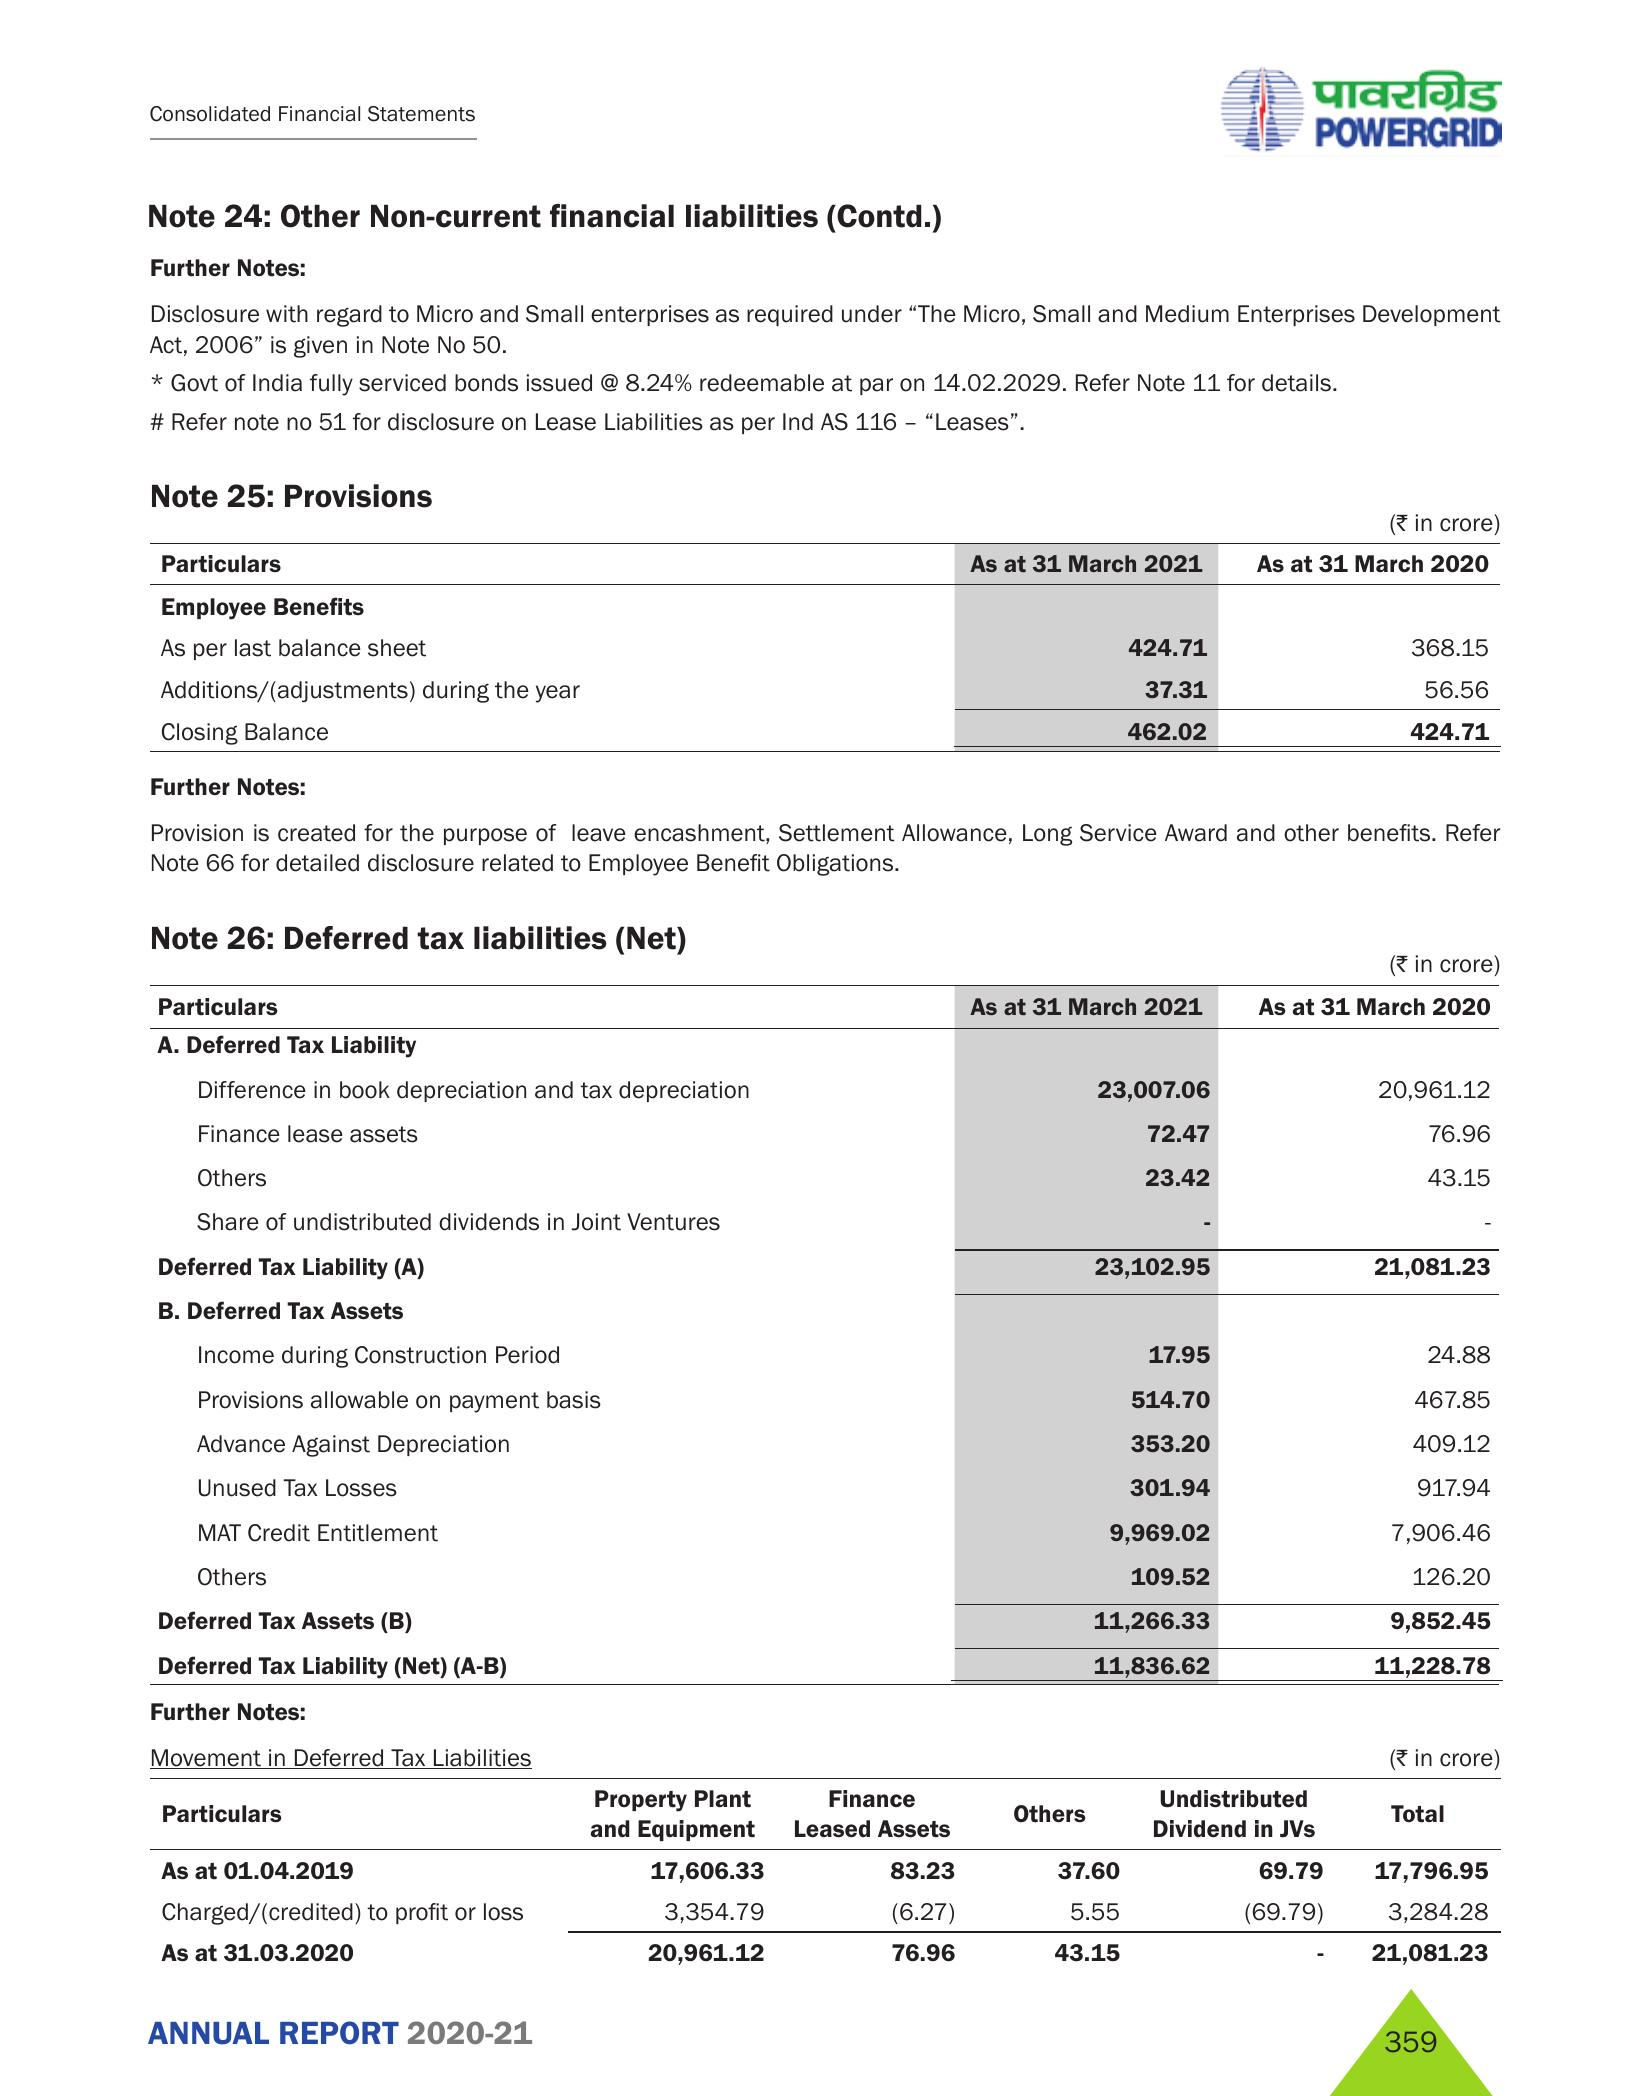Footer: (0, 1974, 1650, 2096)
Header: (0, 0, 1650, 163)
Table: (85, 965, 1524, 1693), (94, 519, 1524, 772), (99, 1749, 1516, 1991)
